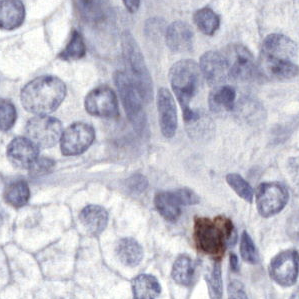Lymphocyte: (192, 214, 235, 262)
